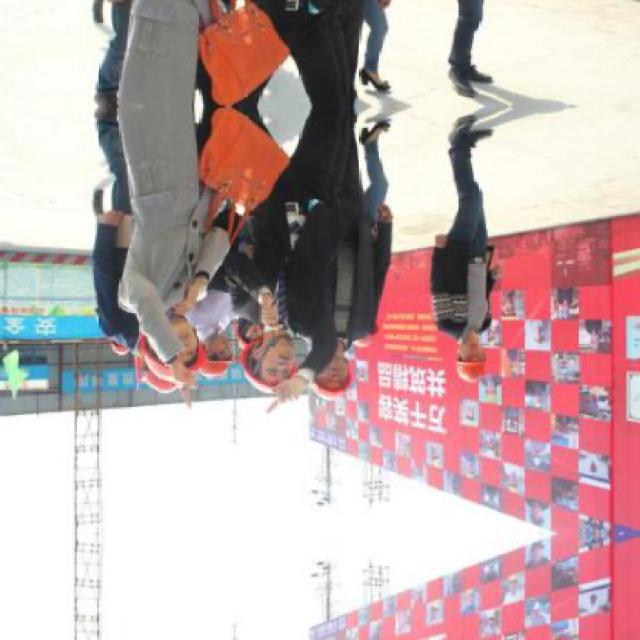con casco: (126, 302, 210, 402), (417, 302, 520, 383), (280, 338, 360, 404), (186, 325, 251, 389), (238, 332, 297, 387)
